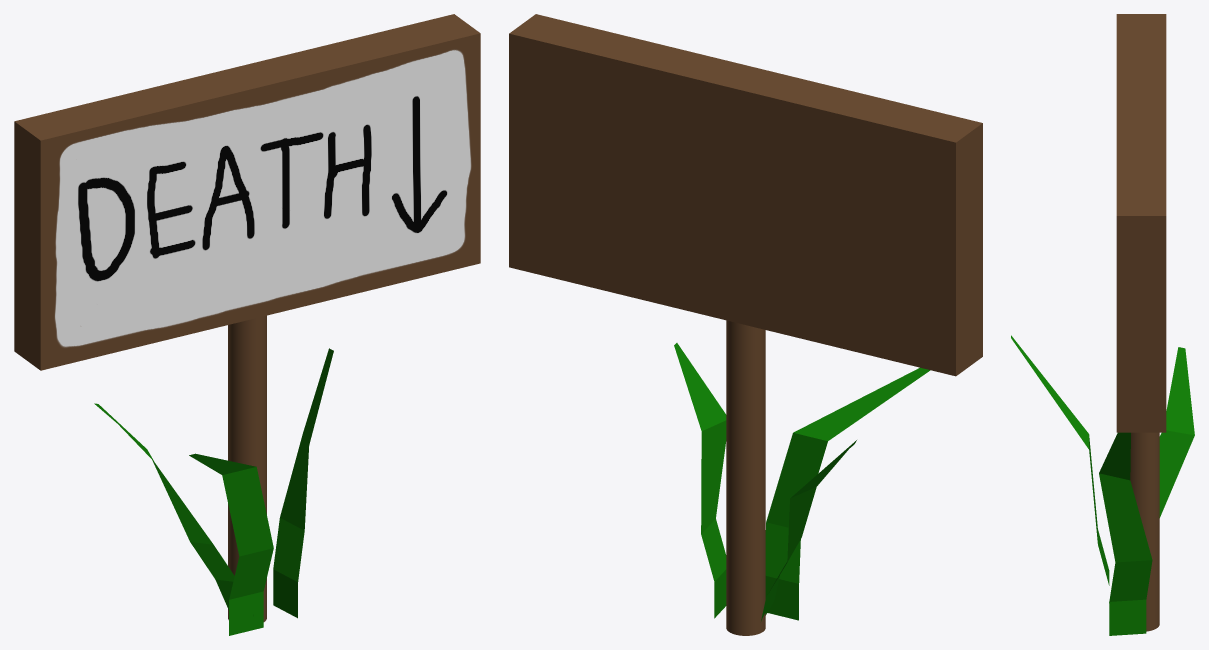
The model's file is Sign.fbx.
3 views of the same model, side by side, from view 1: azimuth 30°, elevation 25°; view 2: azimuth 150°, elevation 25°; view 3: azimuth 270°, elevation 25° (orthographic). The views are drawn at different scales.
Visible parts, largest first — view 1: Cube, Plane.002; view 2: Cube, Plane.002; view 3: Cube, Plane.002.
Part boxes in pixels (<box>): Cube: <box>14,14,480,621</box>; Plane.002: <box>94,348,333,635</box>; Cube: <box>509,14,982,635</box>; Plane.002: <box>674,343,930,621</box>; Cube: <box>1116,14,1166,631</box>; Plane.002: <box>1011,335,1194,635</box>.
Size of the model in its own units: 125 by 147 by 48.22.
Materials: 3 (1 with a texture image).
